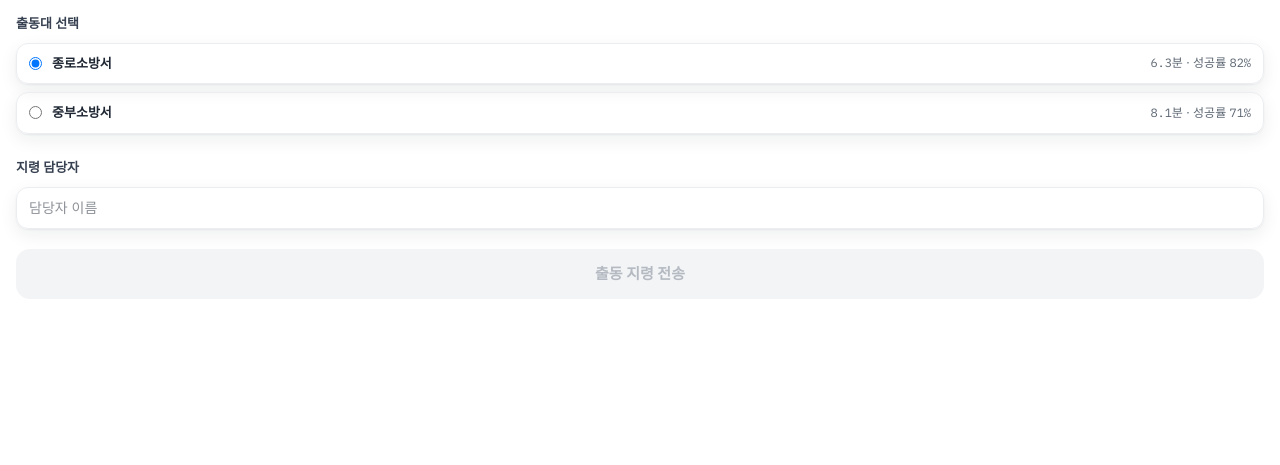
it: DispatchOrderForm › 전송에 실패하면 오류와 다시 시도를 표시한다
The width and height of the screenshot is (1280, 465).
Type "김선우" into the field labelled "지령 담당자".
click(640, 208); type("김선우")  # box 16,186 -> 1264,228
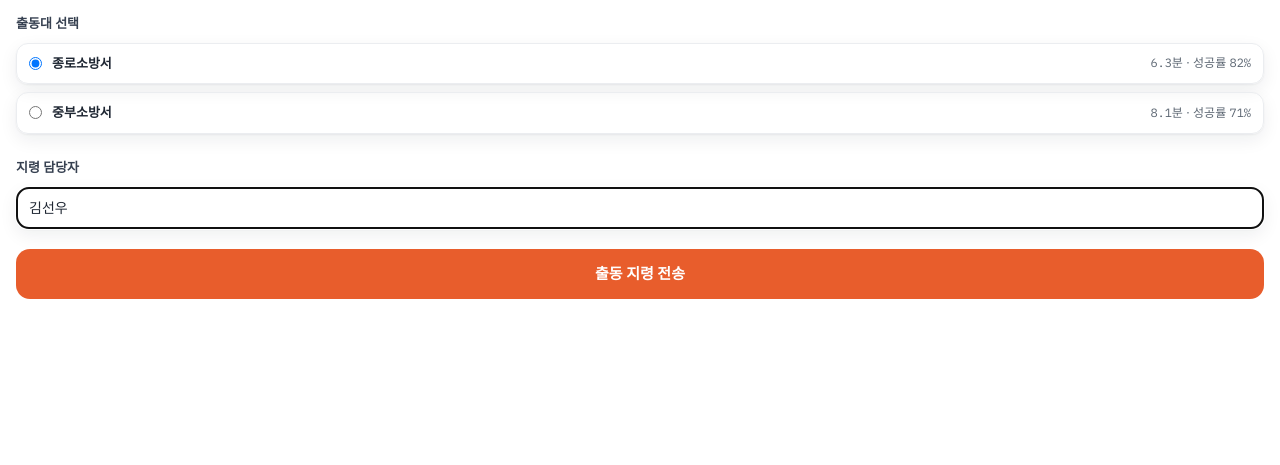
Click the button "출동 지령 전송".
click(640, 274)  # box 16,248 -> 1264,299
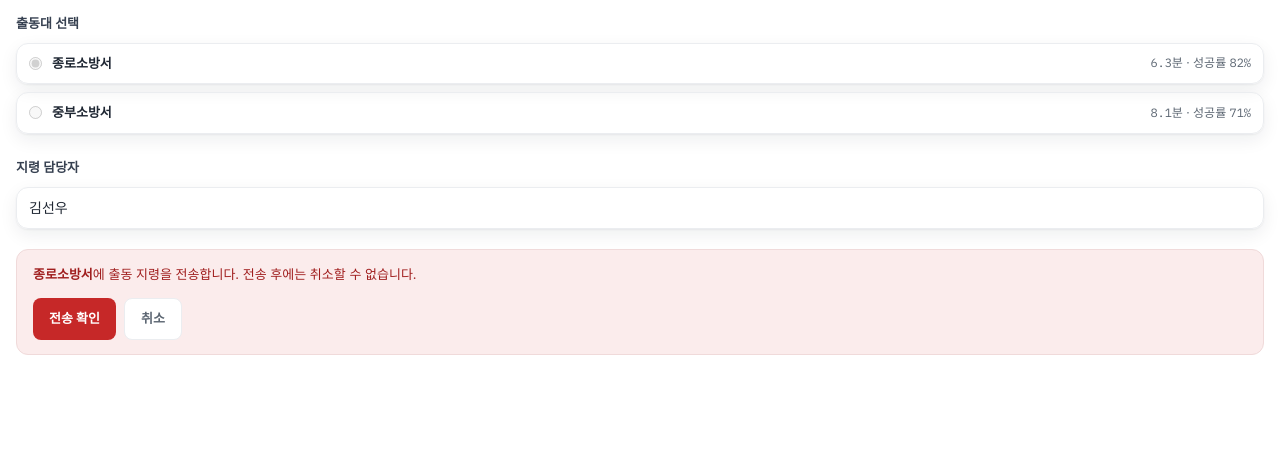
Click the button "전송 확인".
click(74, 319)  # box 33,298 -> 116,340
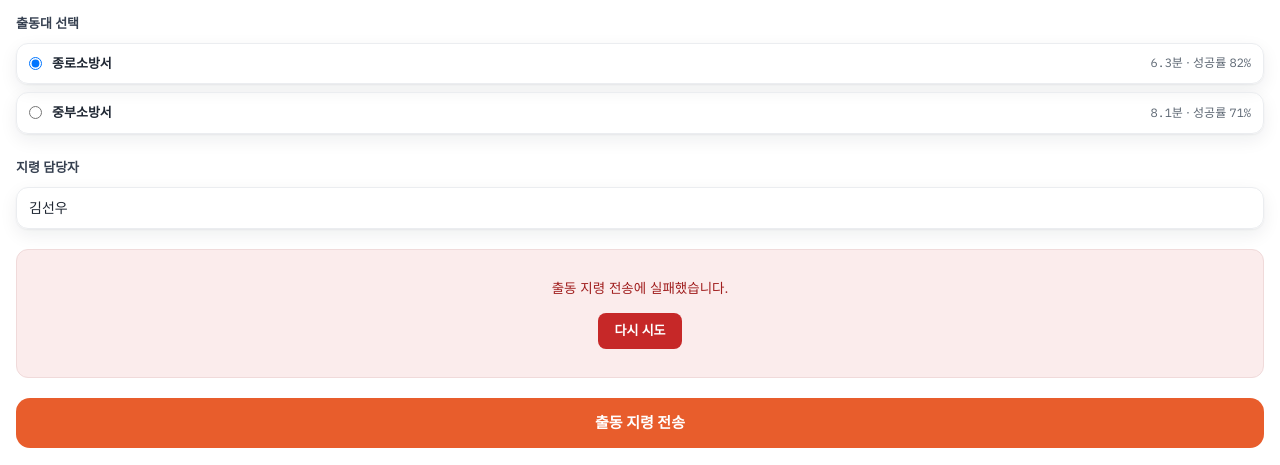
Result: the text "출동 지령 전송에 실패했습니다." is shown at 552,278 -> 728,299
Result: the button "다시 시도" is shown at 598,313 -> 682,349
